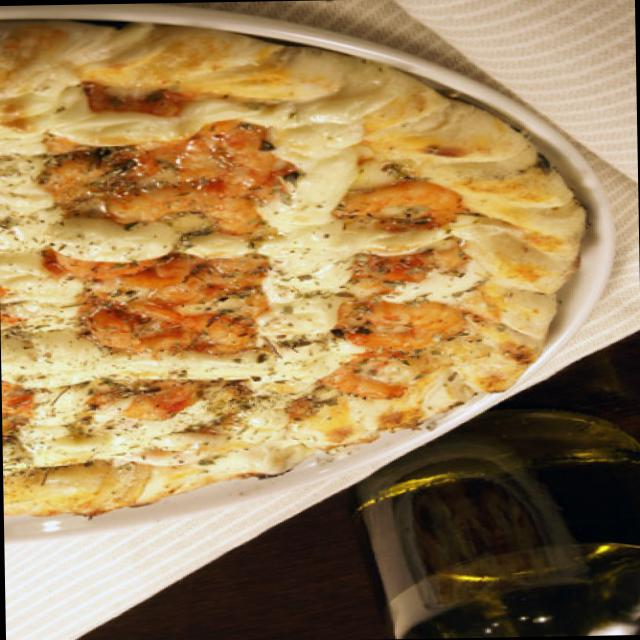camarao: (98, 179, 262, 244), (334, 296, 475, 354), (332, 178, 468, 236)
pizza: (0, 5, 594, 514)
